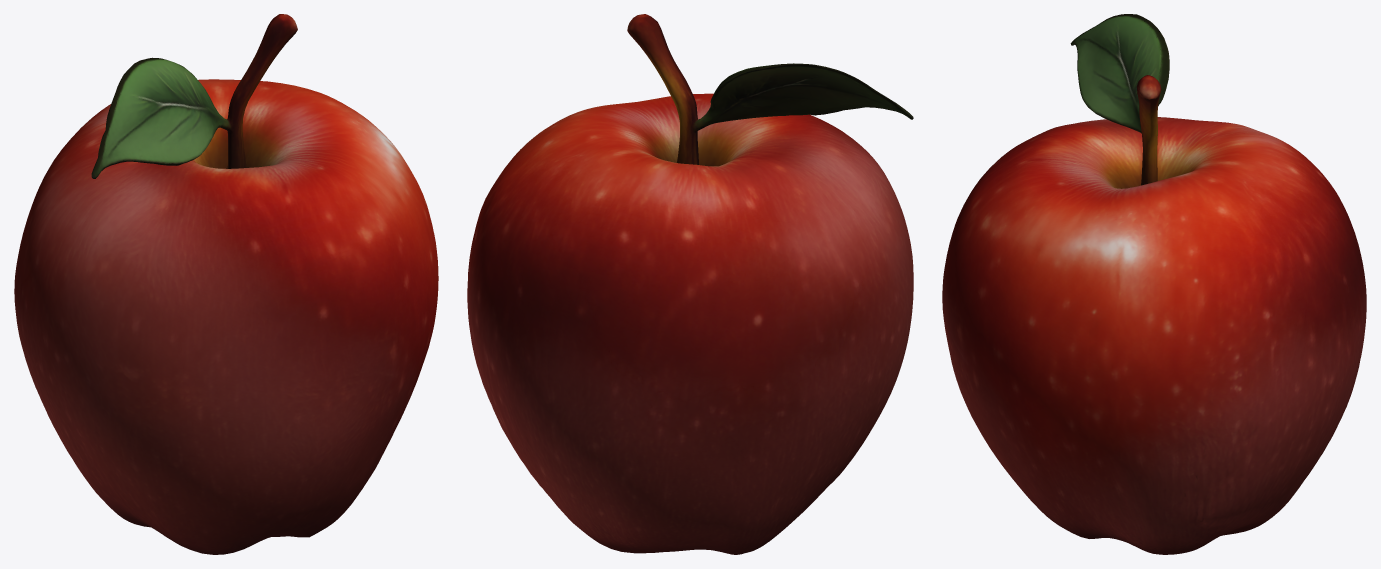
Rendered from apple.glb.
The picture shows the model from 3 angles, left to right: view 1: azimuth 30°, elevation 25°; view 2: azimuth 150°, elevation 25°; view 3: azimuth 270°, elevation 25°; orthographic projection. The views are drawn at different scales.
Parts seen in each view (by area): view 1: geometry_0; view 2: geometry_0; view 3: geometry_0.
Part boxes in pixels (left/top/right/bottom): geometry_0: left=14, top=14, right=438, bottom=554; geometry_0: left=467, top=14, right=913, bottom=554; geometry_0: left=942, top=14, right=1366, bottom=554.
Size of the model in its own units: 0.4032 by 0.5002 by 0.4161.
1 material, 1 textured.
